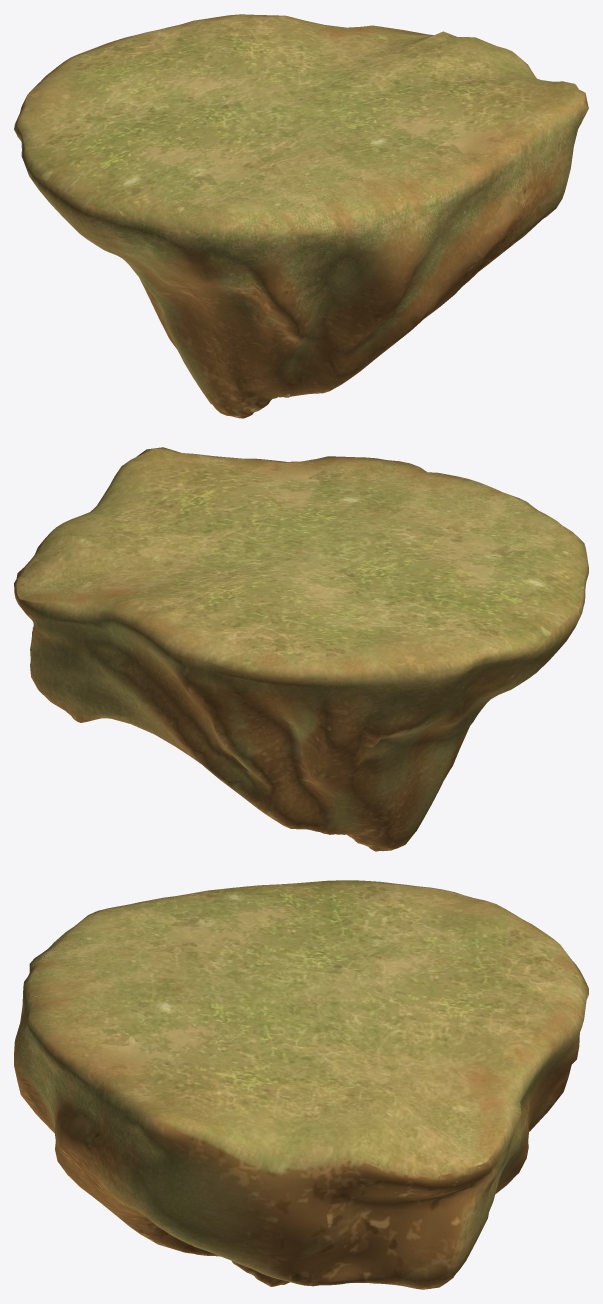
Rendered from plataforma.fbx.
The picture shows the model from 3 angles, top to bottom: view 1: azimuth 30°, elevation 25°; view 2: azimuth 150°, elevation 25°; view 3: azimuth 270°, elevation 25°; orthographic projection. The views are drawn at different scales.
Visible parts, largest first — view 1: Plataforma; view 2: Plataforma; view 3: Plataforma.
Boxes of the visible parts, left/top/right/bottom form: Plataforma: left=14, top=14, right=588, bottom=418; Plataforma: left=14, top=447, right=588, bottom=851; Plataforma: left=14, top=880, right=588, bottom=1289.
Bounding box in the file's own units: 213 × 121 × 191.
